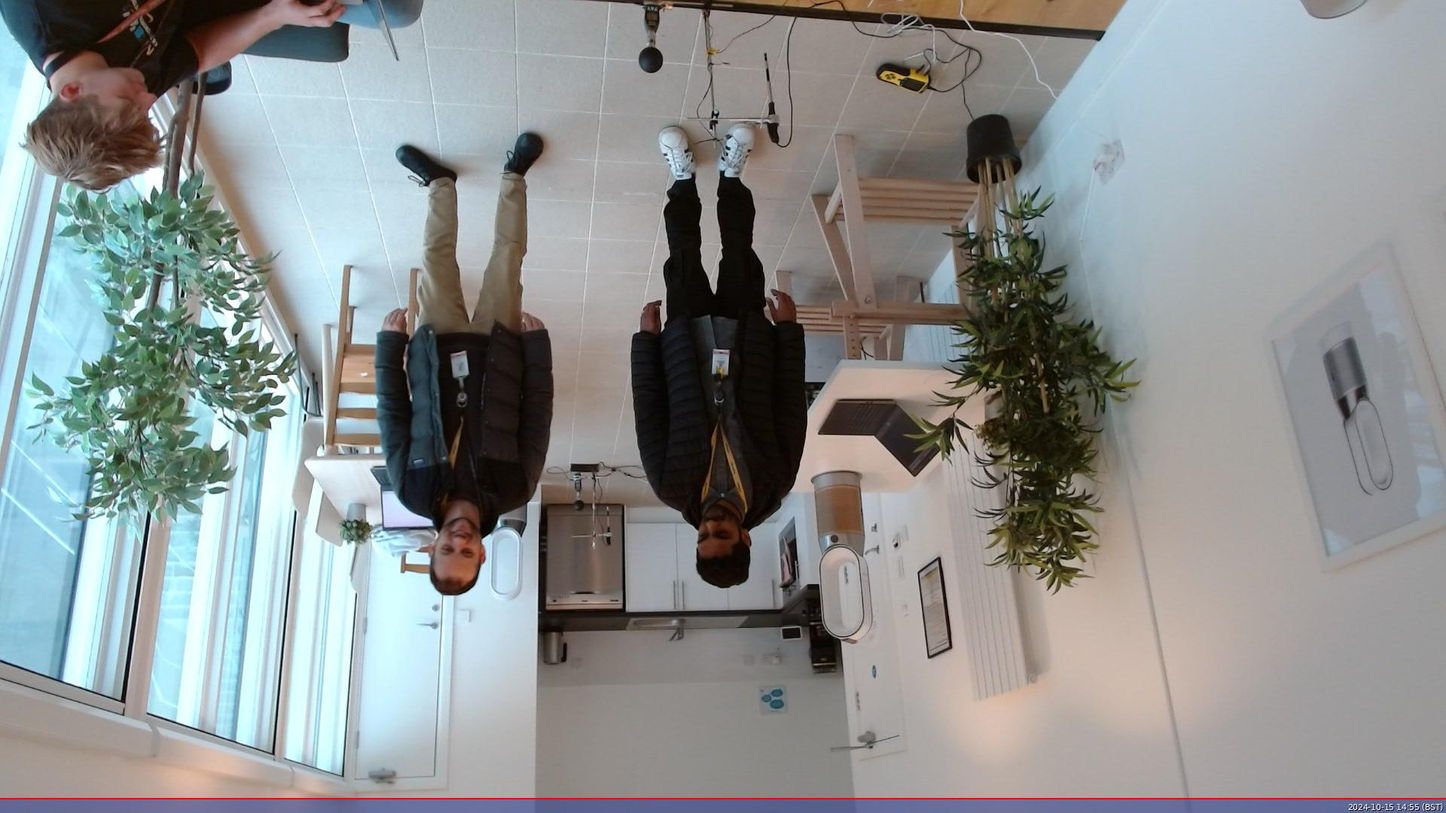coat: (369, 324, 557, 537), (629, 322, 813, 531)
long sleeve shirt: (687, 315, 757, 521)
short sleeve shirt: (0, 0, 209, 113)
sweater: (427, 331, 494, 518)
trousers: (412, 173, 528, 340), (659, 176, 767, 333), (316, 0, 427, 29)
